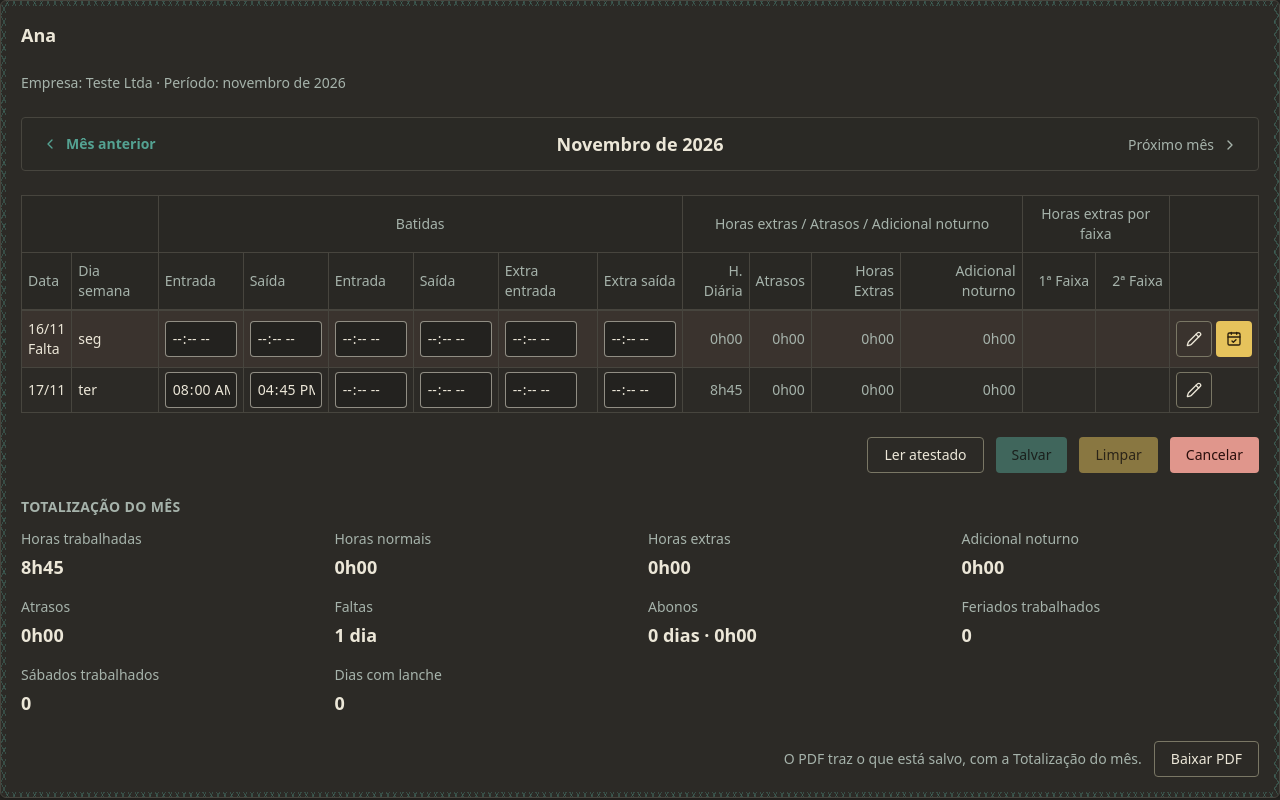
Test case: CartaoDePontoContainer › depois de salvar a linha volta ao lápis, com os campos travados
Step 1. Click the button named "Editar seg 16/11" → [1194, 339], box [1176,321,1212,357]
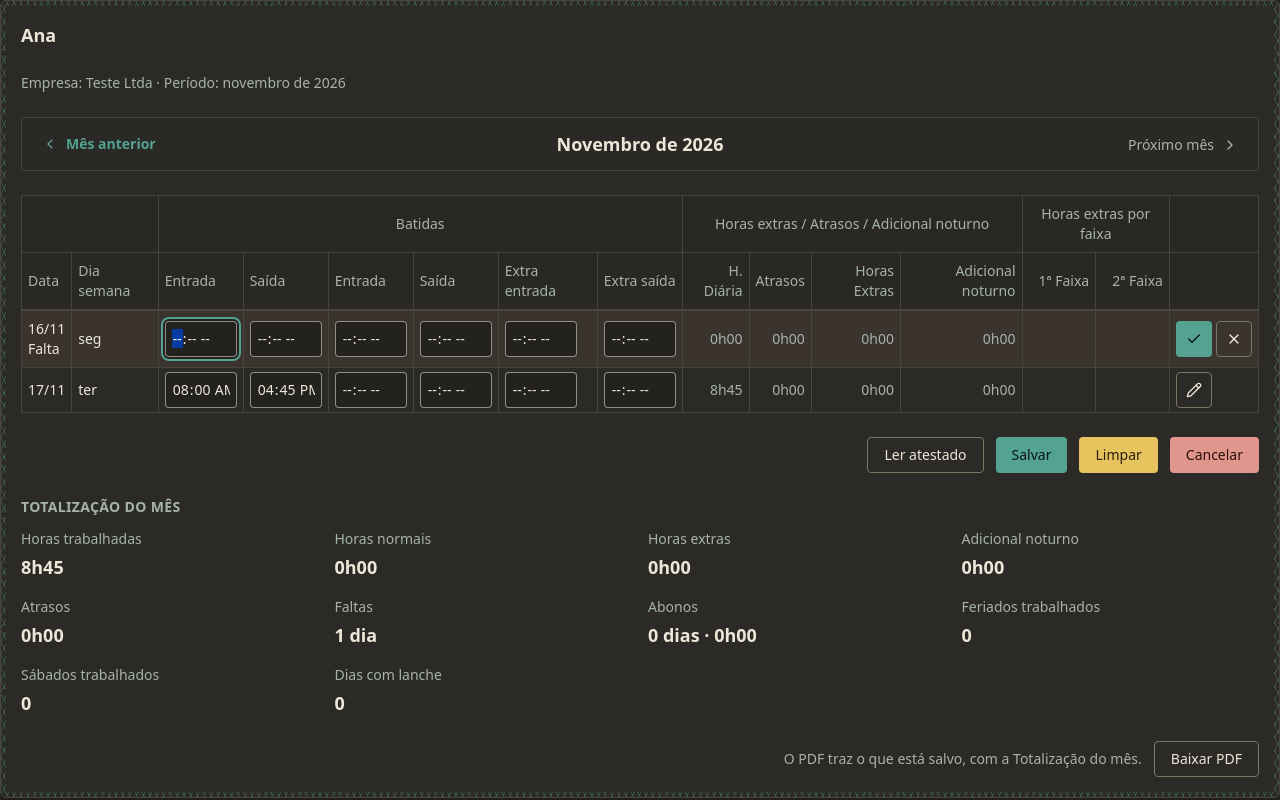
Step 2. Click the button named "Salvar seg 16/11" → [1194, 339], box [1176,321,1212,357]
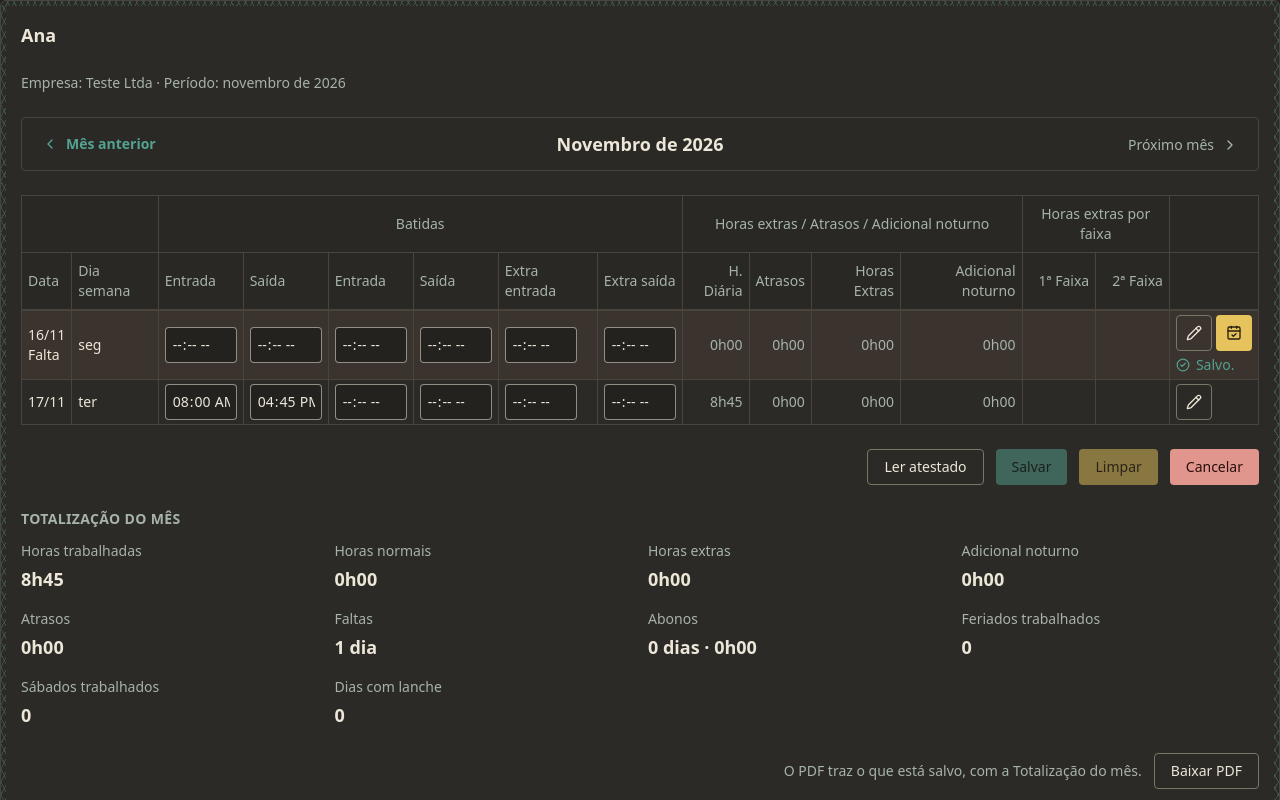
Result: the button named "Editar seg 16/11" is shown at [1176,315,1212,351]
